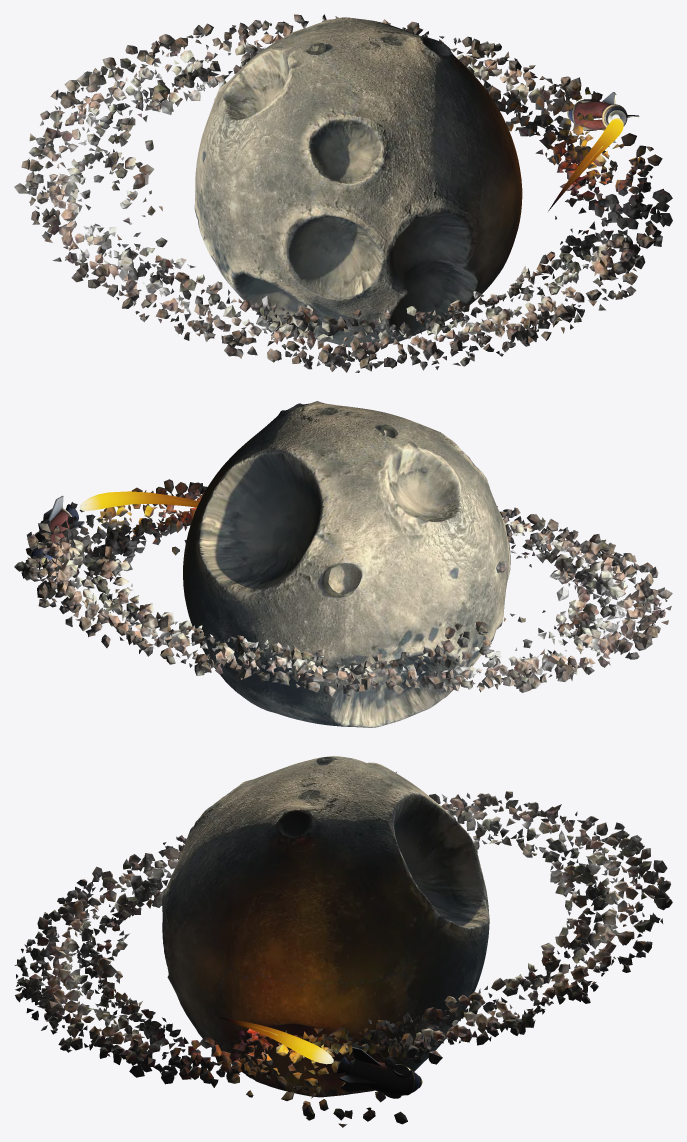
Rendered from moon-transformed.glb.
3 views of the same model, one above another, from view 1: azimuth 30°, elevation 25°; view 2: azimuth 150°, elevation 25°; view 3: azimuth 270°, elevation 25° (orthographic).
Visible parts, largest first — view 1: Subdivision_Surface, Ring_1, Raket_1; view 2: Subdivision_Surface, Ring_1, Raket_1; view 3: Subdivision_Surface, Ring_1, Raket_1.
Boxes of the visible parts, box(x1,y1,x2,y2) form: Subdivision_Surface: box(194, 17, 522, 347); Ring_1: box(14, 14, 672, 372); Raket_1: box(548, 92, 639, 211); Subdivision_Surface: box(183, 401, 510, 727); Ring_1: box(14, 479, 672, 696); Raket_1: box(30, 491, 199, 567); Subdivision_Surface: box(162, 756, 489, 1097); Ring_1: box(14, 772, 672, 1127); Raket_1: box(216, 1016, 422, 1098).
Size of the model in its own units: 413 by 200 by 389.
Materials: 3 (3 with a texture image).
